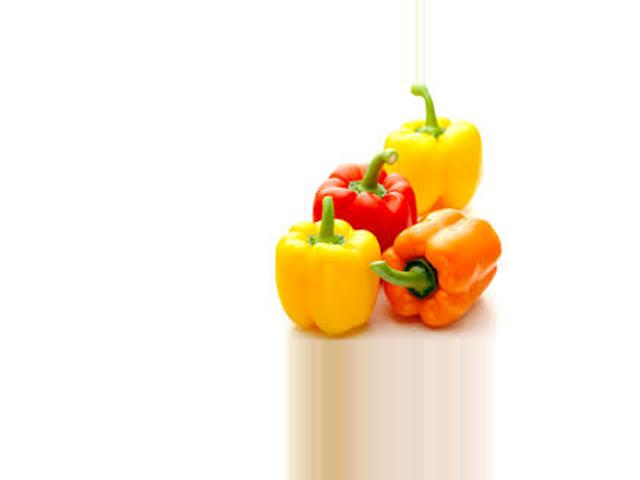bell_pepper: (270, 199, 409, 336)
